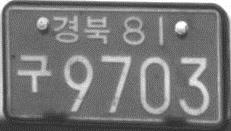0: (139, 55, 171, 116)
1: (155, 14, 166, 46)
3: (178, 55, 211, 116)
7: (99, 52, 133, 114)
8: (121, 14, 146, 46)
9: (62, 52, 95, 114)
경북_O: (50, 13, 111, 45)
구: (16, 52, 52, 93)
